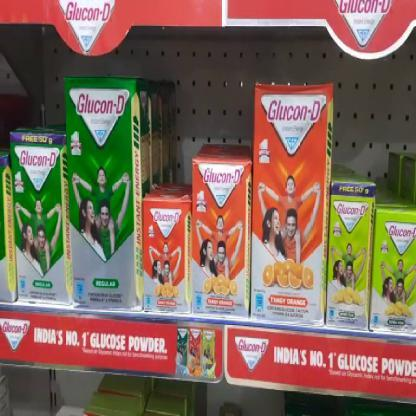Glucon D Regular 1-KG: (67, 80, 136, 314)
Glucon D Tangy orange 1-KG: (252, 85, 331, 324)
